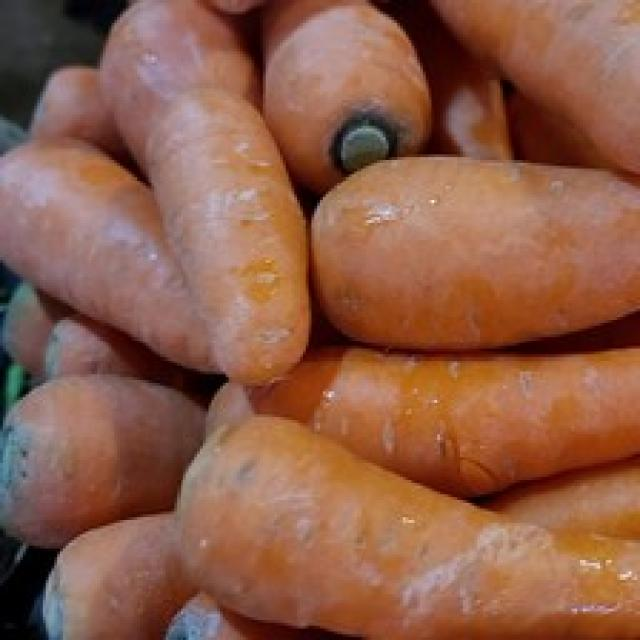Fresh_Carrot: (185, 422, 640, 640), (96, 0, 310, 385), (306, 152, 640, 348), (273, 338, 640, 502), (0, 132, 226, 372), (433, 0, 640, 190), (0, 388, 214, 540), (266, 0, 428, 171)
